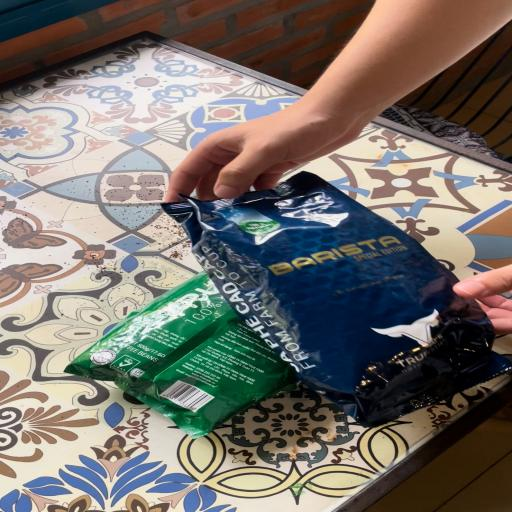cafe_hat: (162, 172, 512, 426)
cafe_xay: (65, 273, 296, 438), (66, 274, 228, 387)
